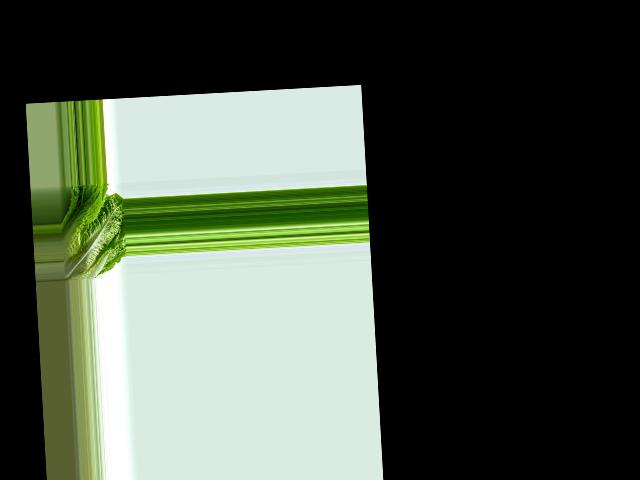lettuce: (59, 181, 126, 280)
